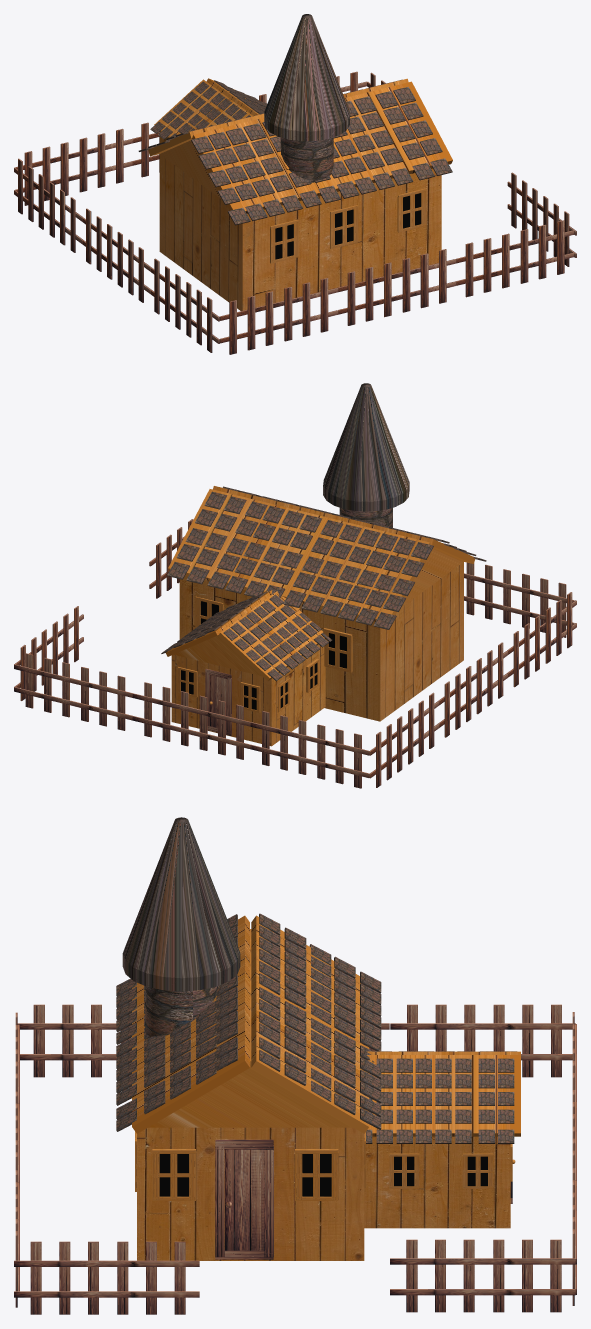
File: cottage2.fbx
3 renders of one model, top to bottom at view 1: azimuth 30°, elevation 25°; view 2: azimuth 150°, elevation 25°; view 3: azimuth 270°, elevation 25°, orthographic. The views are drawn at different scales.
Parts seen in each view (by area): view 1: polySurface199; view 2: polySurface199; view 3: polySurface199.
Part boxes in pixels (bbox=[...]): polySurface199: bbox=[14, 14, 576, 354]; polySurface199: bbox=[14, 383, 576, 788]; polySurface199: bbox=[14, 817, 576, 1314].
Bounding box in the file's own units: 66.34 × 46.83 × 66.05.
5 materials, 3 textured.
